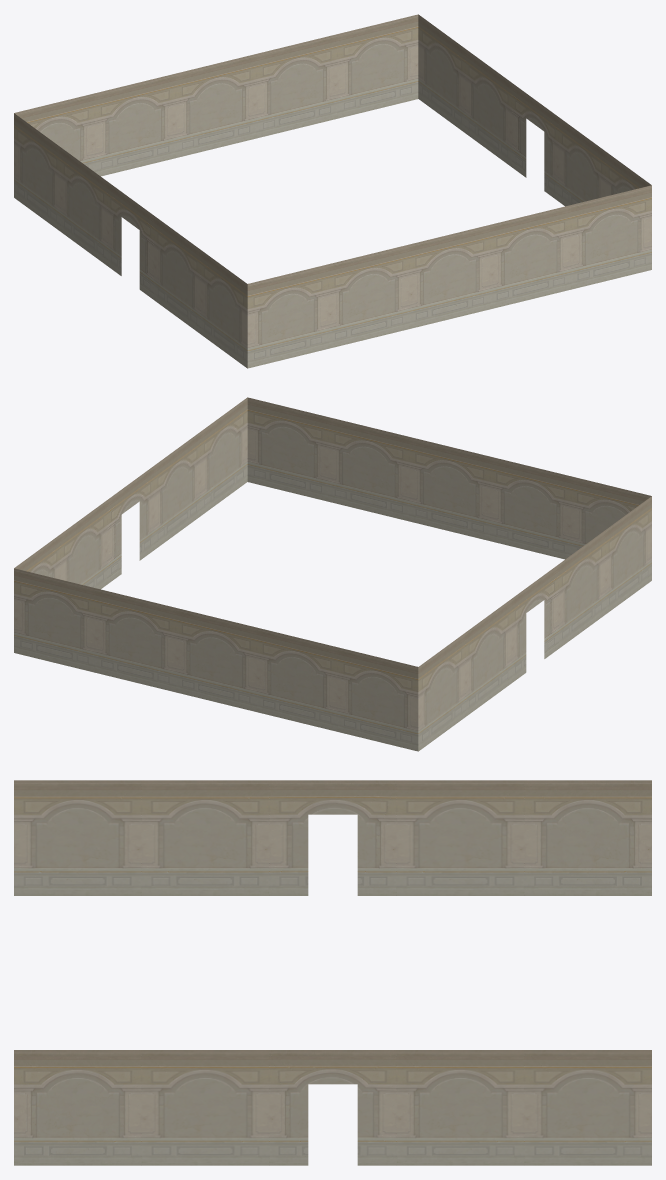
Rendered from Homeworld_Interior_Fd_Room_Q_Filling_01_Vo.fbx.
The picture shows the model from 3 angles, top to bottom: view 1: azimuth 30°, elevation 25°; view 2: azimuth 150°, elevation 25°; view 3: azimuth 270°, elevation 25°; orthographic projection. The views are drawn at different scales.
Visible parts, largest first — view 1: Homeworld_Interior_Fd_Room_Q_Filling_01_Vo; view 2: Homeworld_Interior_Fd_Room_Q_Filling_01_Vo; view 3: Homeworld_Interior_Fd_Room_Q_Filling_01_Vo.
Boxes of the visible parts, box(x1,y1,x2,y2) form: Homeworld_Interior_Fd_Room_Q_Filling_01_Vo: box(14, 14, 651, 368); Homeworld_Interior_Fd_Room_Q_Filling_01_Vo: box(14, 397, 651, 751); Homeworld_Interior_Fd_Room_Q_Filling_01_Vo: box(14, 780, 651, 1165).
Bounding box in the file's own units: 25 × 5 × 25.
